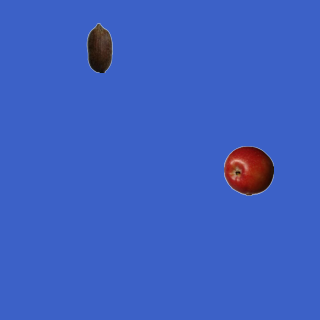Apple Braeburn: (223, 145, 273, 195)
Nut Pecan: (74, 22, 124, 72)
